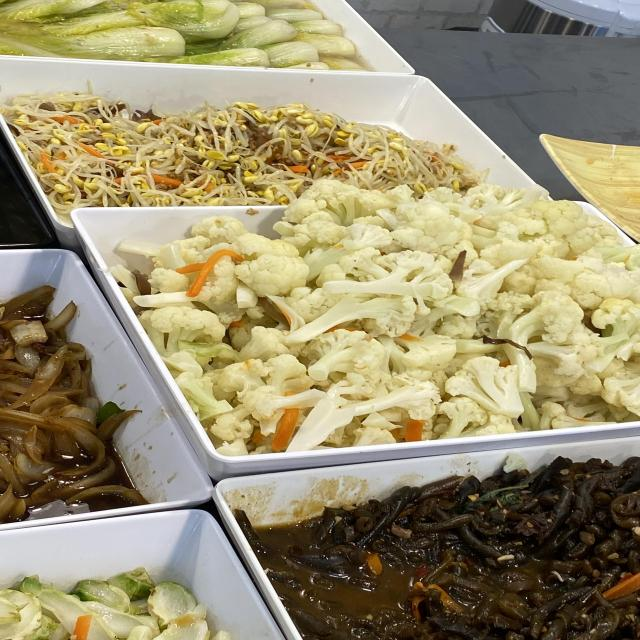cauliflower: (226, 230, 592, 418)
